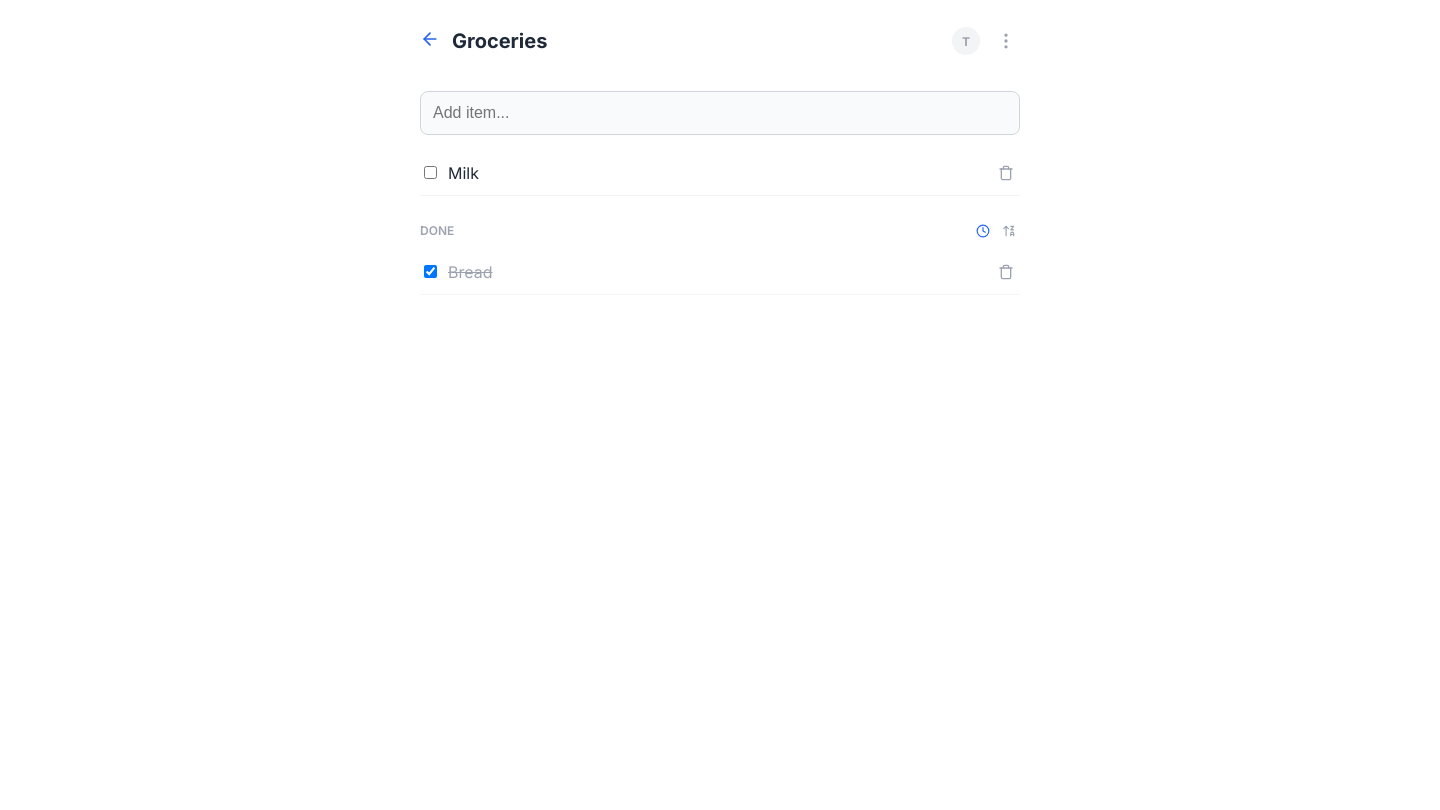
Test: ListDetailPage › leaves a list via menu with confirmation
Expected: the heading "Groceries" is shown, [452,29,547,53]
What coordinates should you click on to do the following:
click the button named "List settings"
I would click on:
 (1006, 41)
Its box is [992,27,1020,55].
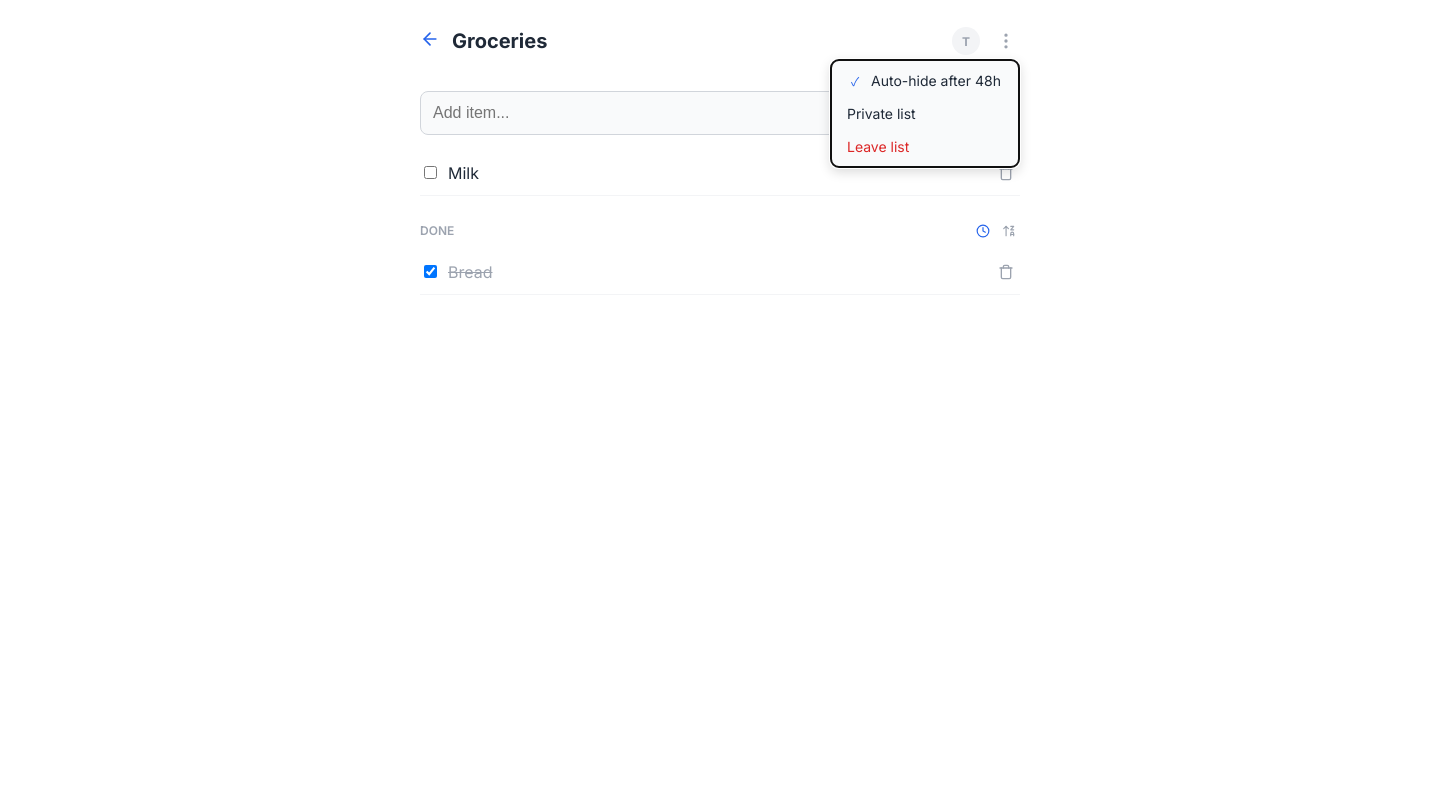
What coordinates should you click on to do the following:
click the menu item "Leave list"
I would click on:
 (878, 146)
Its box is [847,138,909,155].
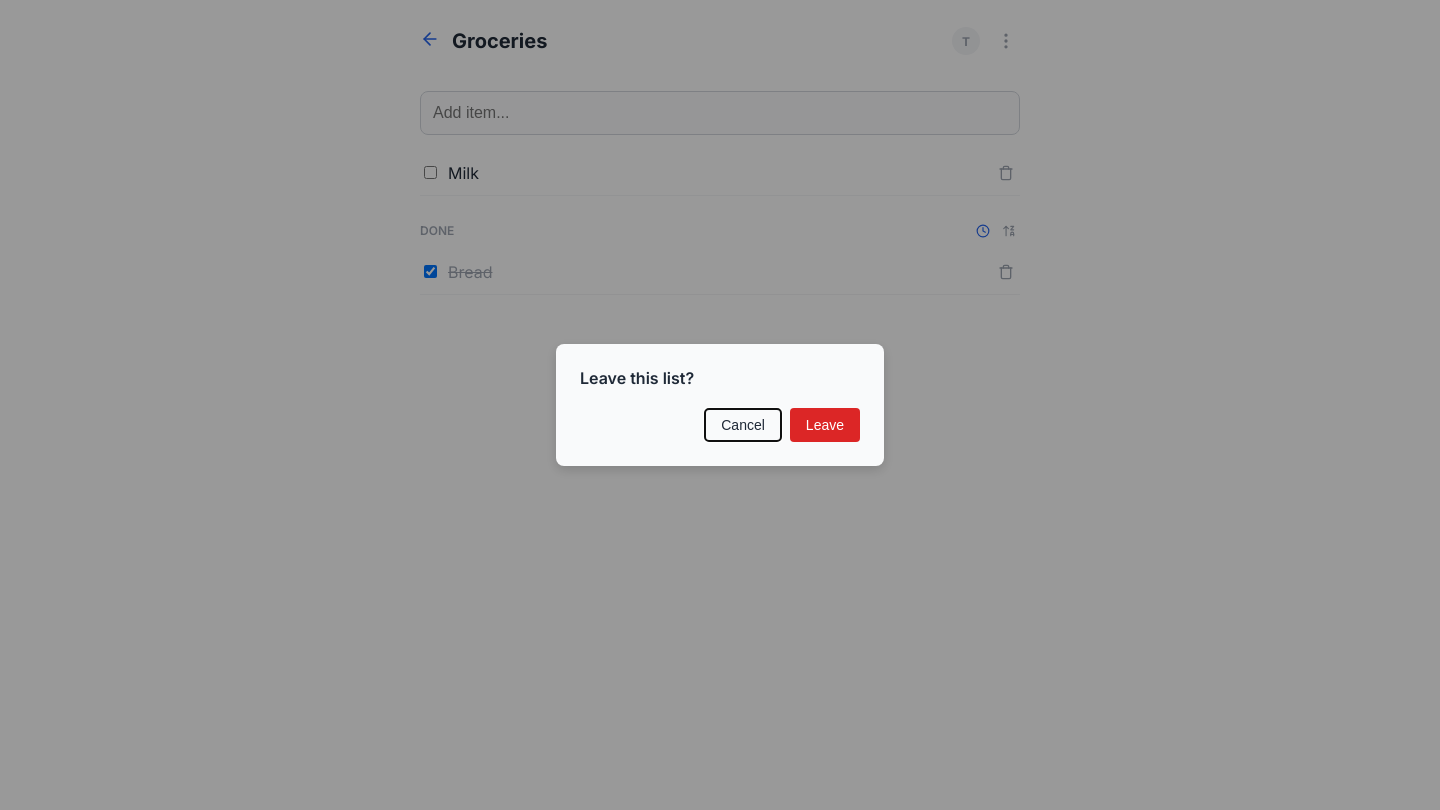
Result: the heading "Leave this list?" is shown at [580,368,694,388]
What coordinates should you click on to do the following:
click the button "Leave"
I would click on:
 (825, 425)
Its box is [790,408,860,442].
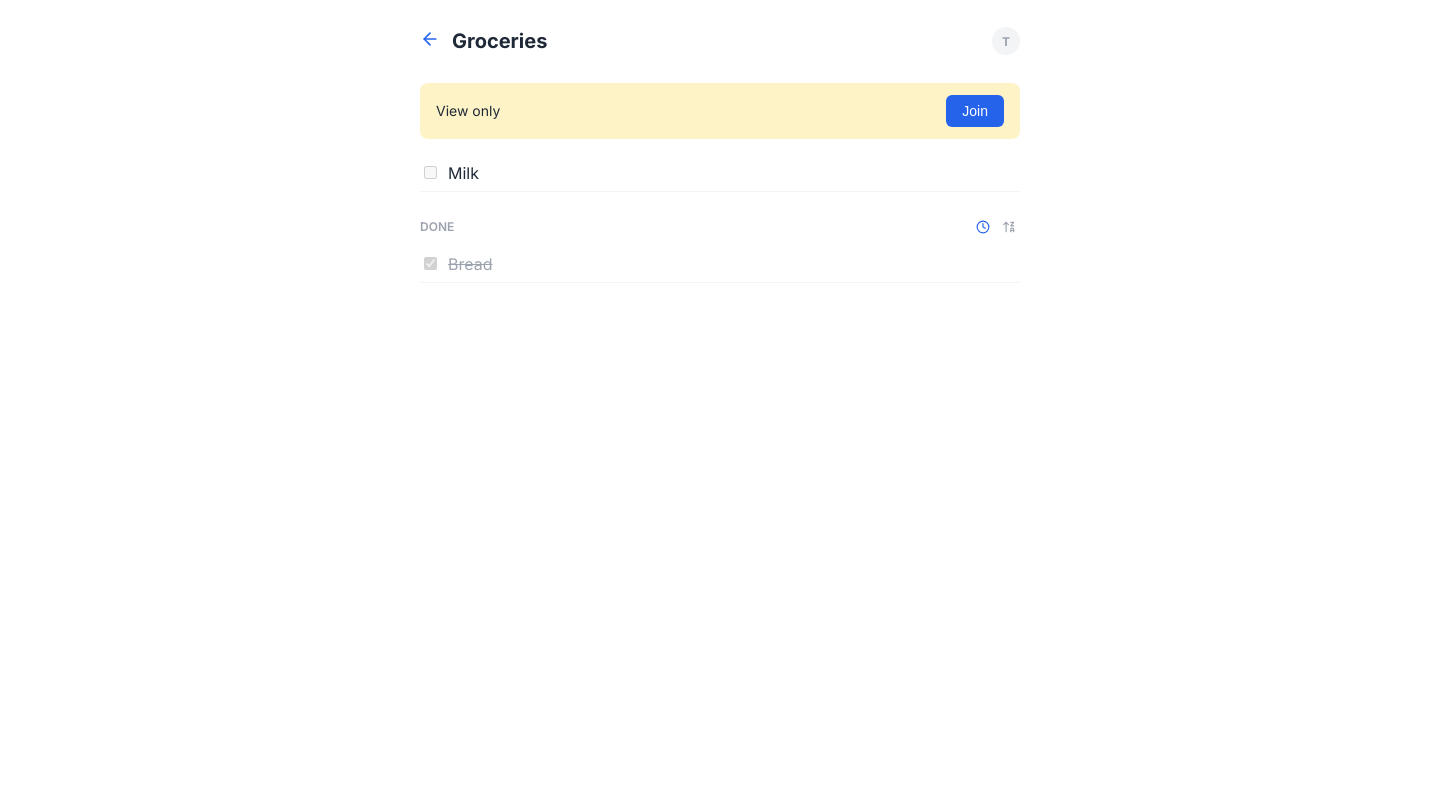
Result: the text "View only" is shown at [436,102,500,119]
